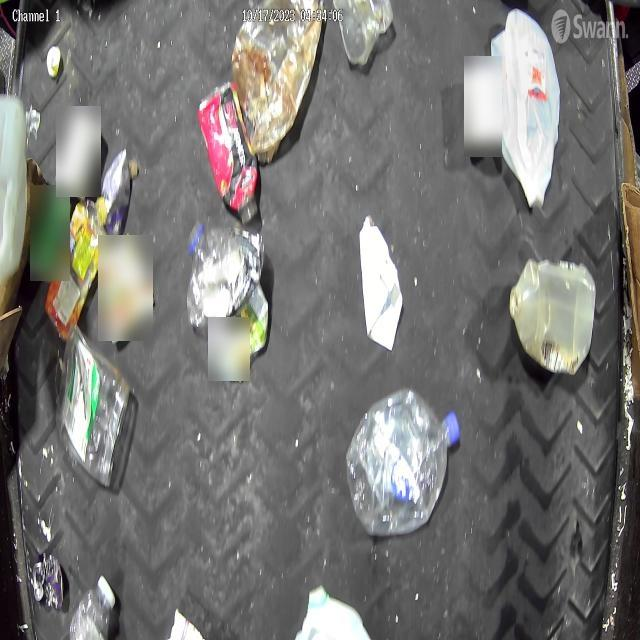milk_jug: (492, 12, 562, 208), (508, 256, 598, 376), (289, 583, 386, 640), (1, 96, 28, 298)
plastic_bottle: (346, 387, 459, 536), (65, 574, 116, 640)
